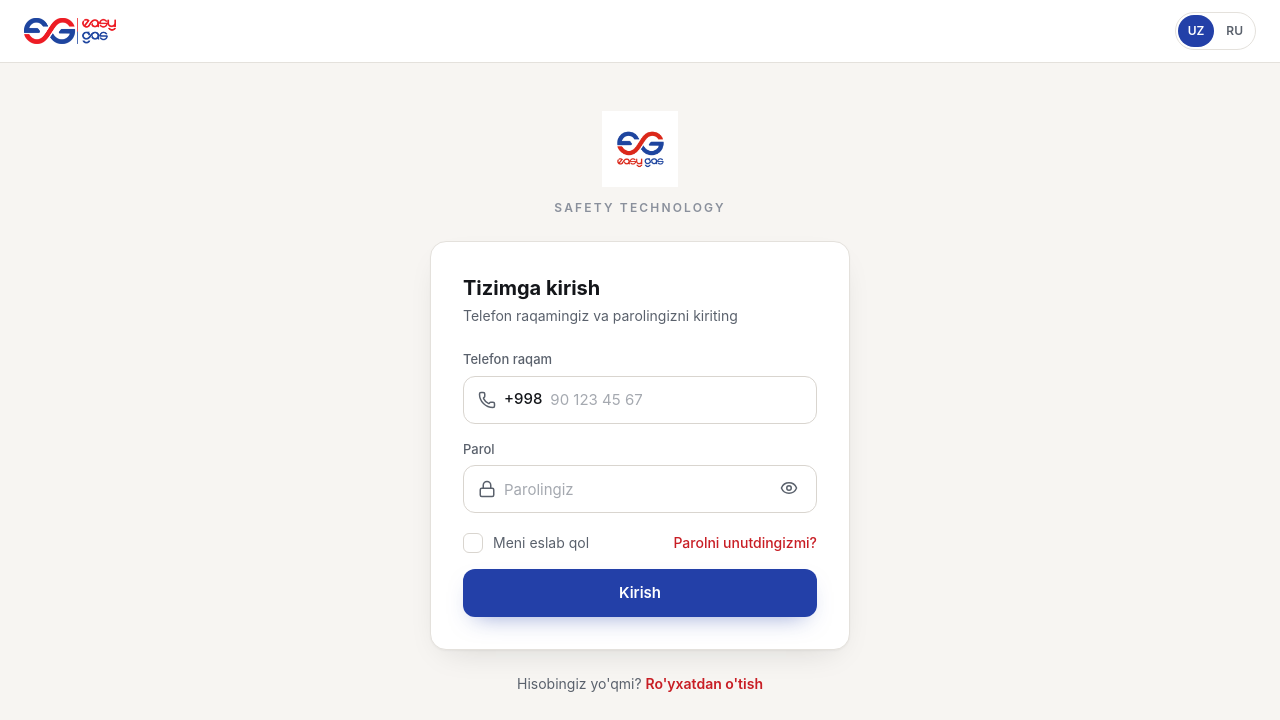
Test: validation error switches language immediately and keeps typed values (§6 #2)
The image size is (1280, 720).
# The only ARIA textbox is the phone (password input has no textbox role).
Type "901234567" into the field at (676, 400), box [550,376,802,422]
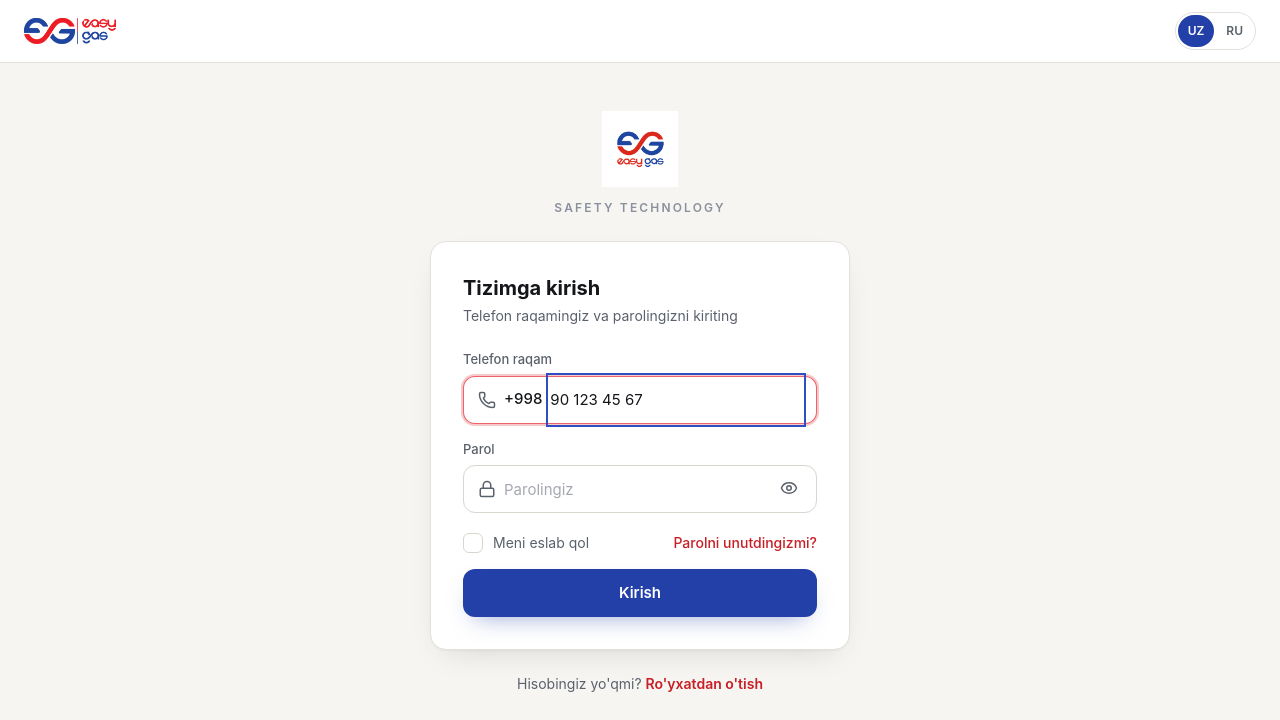
Now the field holds "90 123 45 67", box [550,376,802,422]
# Submit with an empty password → Uzbek validation for the password field.
Click the button "Kirish" at (640, 593), box [463,569,817,617]
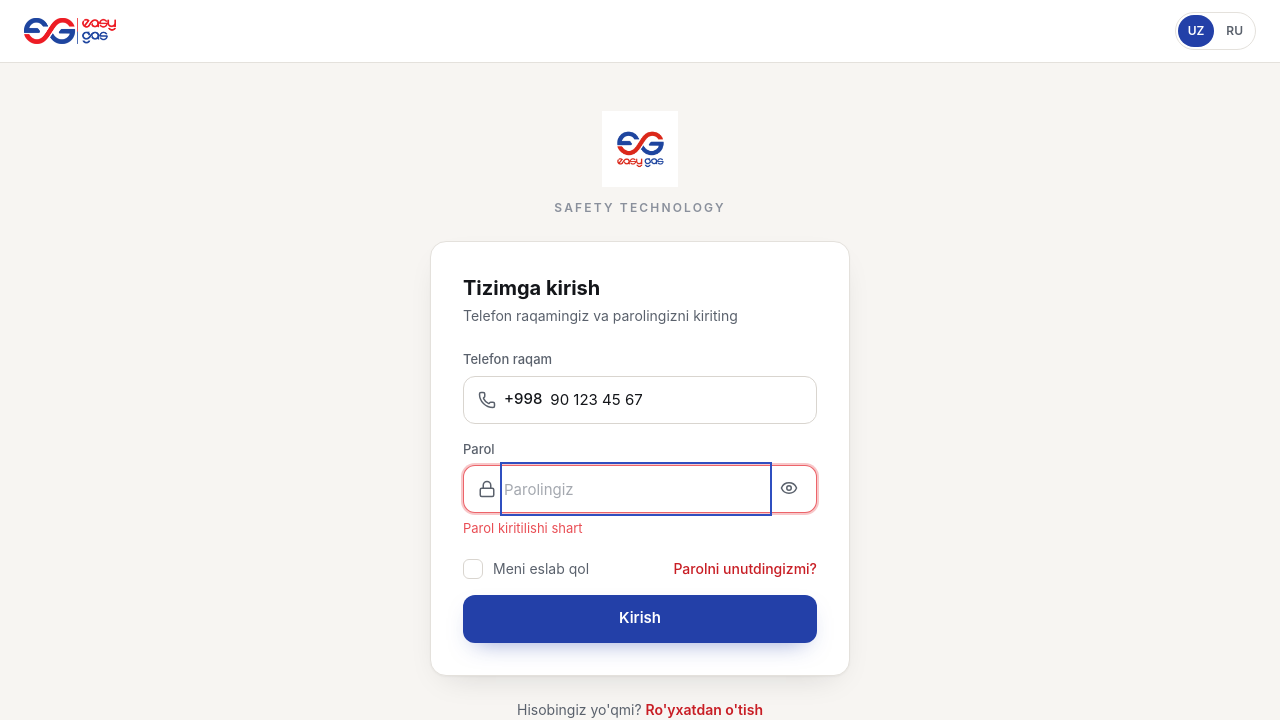
Now the text "Parol kiritilishi shart" is shown, box [463,520,583,536]
Click the button "RU" at (1235, 31), box [1216,15,1253,47]
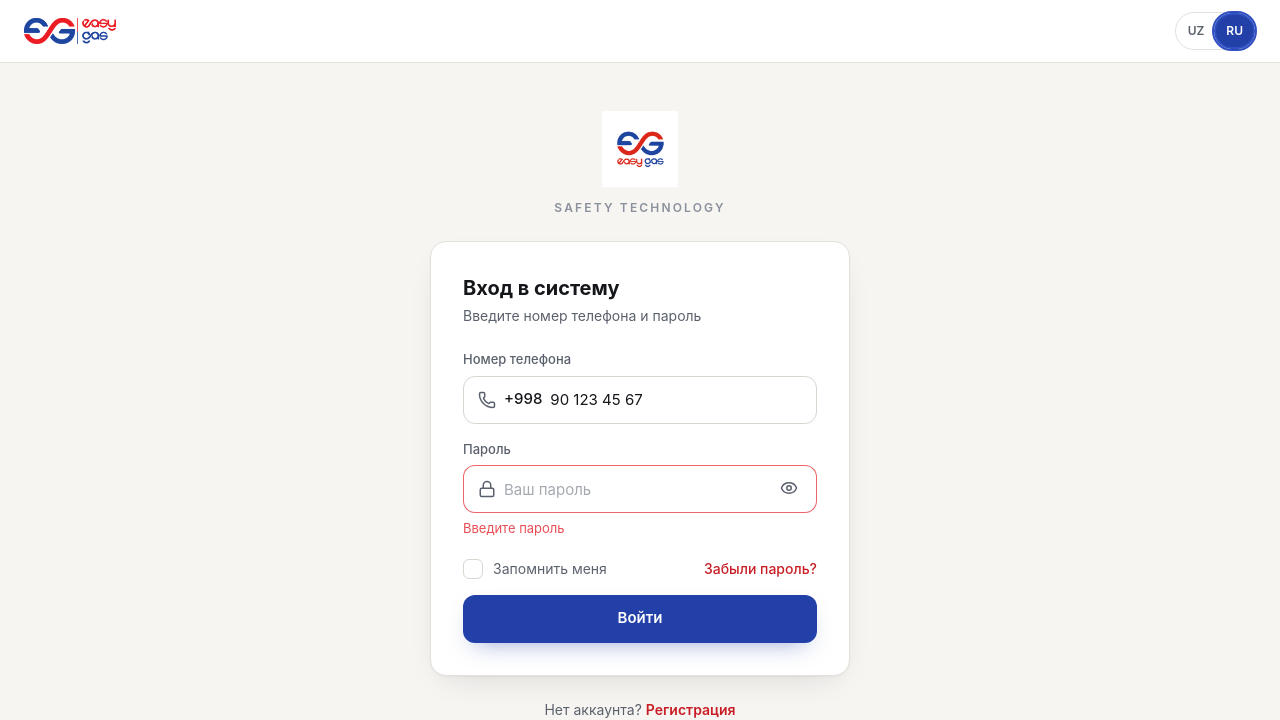
Now the field holds "90 123 45 67", box [550,376,802,422]
Now the text "Введите пароль" is shown, box [463,520,565,536]
Now the text "Parol kiritilishi shart" is gone
